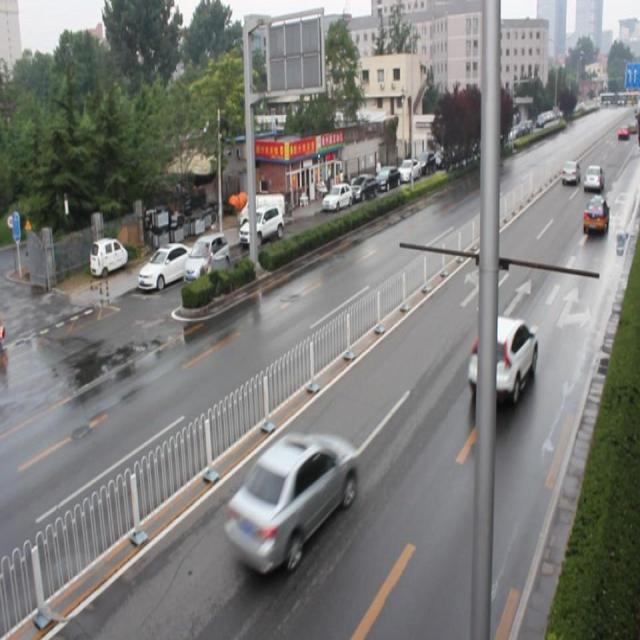car: (225, 429, 356, 572), (468, 314, 537, 404), (581, 194, 606, 236), (559, 161, 578, 186), (583, 164, 601, 190)
